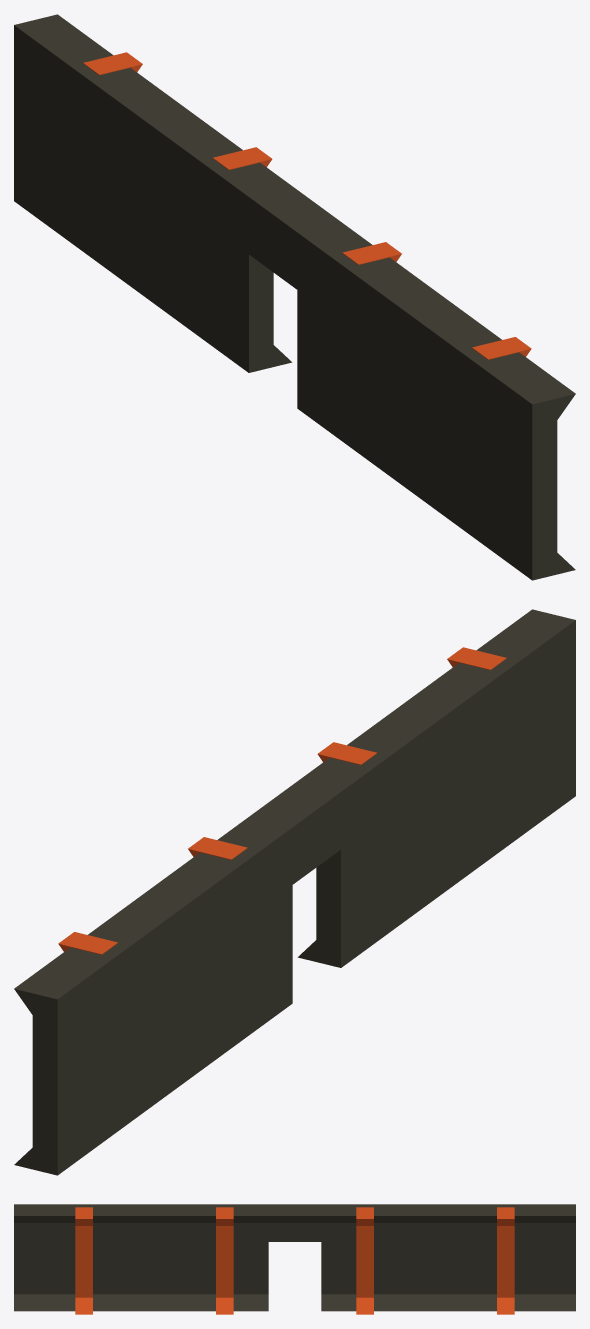
File: WallDoor.fbx
The picture shows the model from 3 angles, top to bottom: view 1: azimuth 30°, elevation 25°; view 2: azimuth 150°, elevation 25°; view 3: azimuth 270°, elevation 25°; orthographic projection. The views are drawn at different scales.
Visible parts, largest first — view 1: WallDoor; view 2: WallDoor; view 3: WallDoor.
Boxes of the visible parts, x1,y1,x2,y2 form: WallDoor: (14, 14, 575, 580); WallDoor: (14, 609, 575, 1175); WallDoor: (14, 1204, 575, 1314).
Size of the model in its own units: 100 by 301 by 1600.
